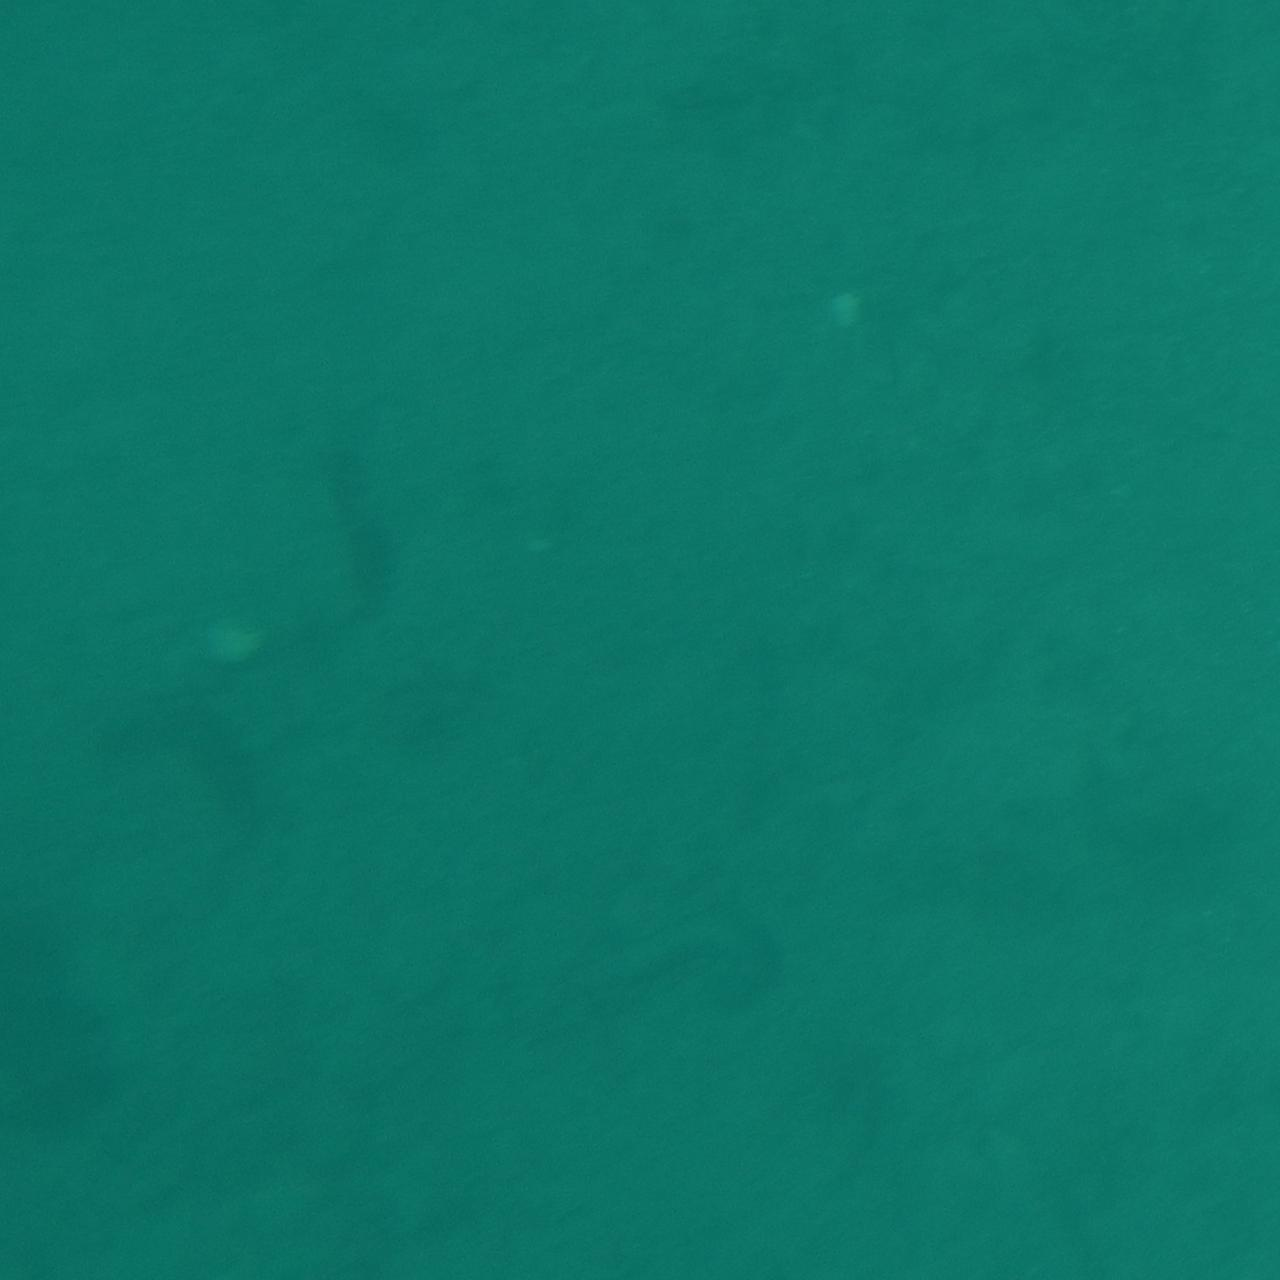Holothuria tubulosa: (147, 648, 306, 884), (319, 387, 437, 641)
